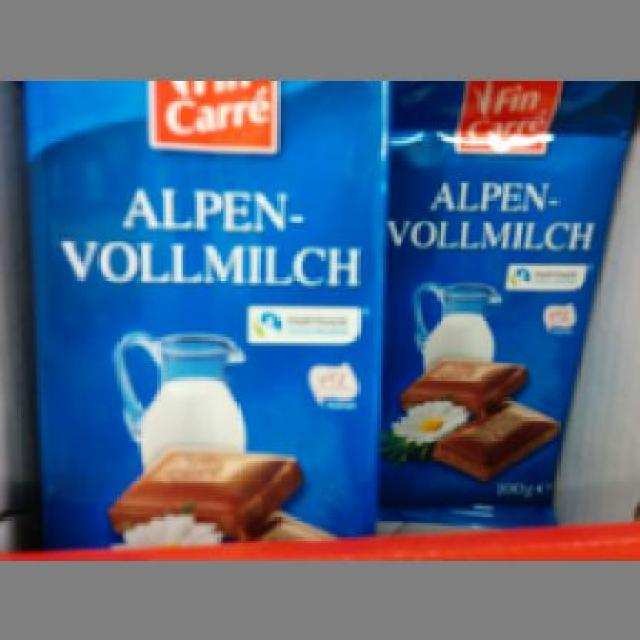Chocolate: (23, 77, 383, 540), (392, 80, 612, 523)
